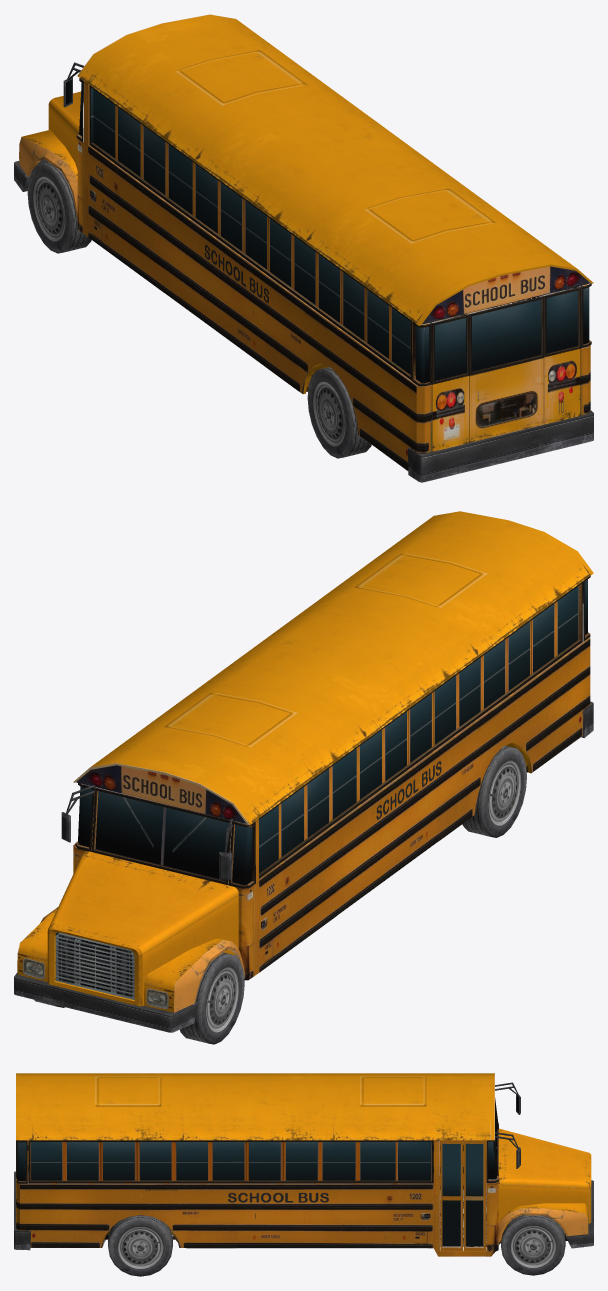
Rendered from school bus.fbx.
3 views of the same model, one above another, from view 1: azimuth 30°, elevation 25°; view 2: azimuth 150°, elevation 25°; view 3: azimuth 270°, elevation 25° (orthographic). The views are drawn at different scales.
Visible parts, largest first — view 1: polySurface140; view 2: polySurface140; view 3: polySurface140.
Part boxes in pixels (bbox=[...]): polySurface140: bbox=[14, 14, 593, 482]; polySurface140: bbox=[14, 511, 593, 1044]; polySurface140: bbox=[14, 1073, 593, 1276].
Size of the model in its own units: 6.91 by 8.42 by 27.83.
